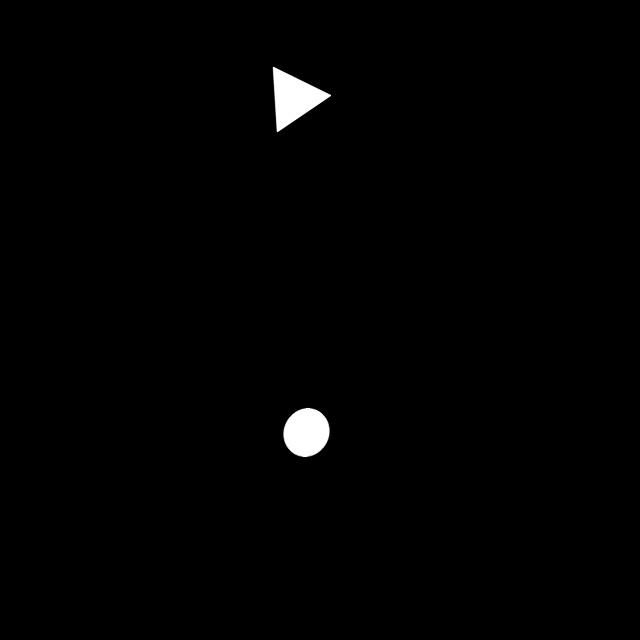Circle: (273, 398, 336, 466)
Triangle: (254, 52, 344, 144)
